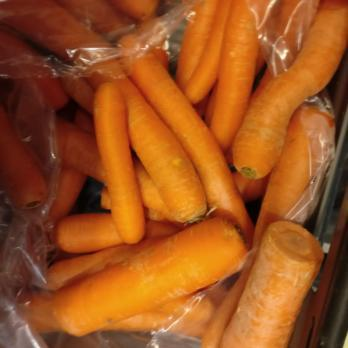Carrot: (1, 0, 297, 348), (293, 1, 348, 195)
